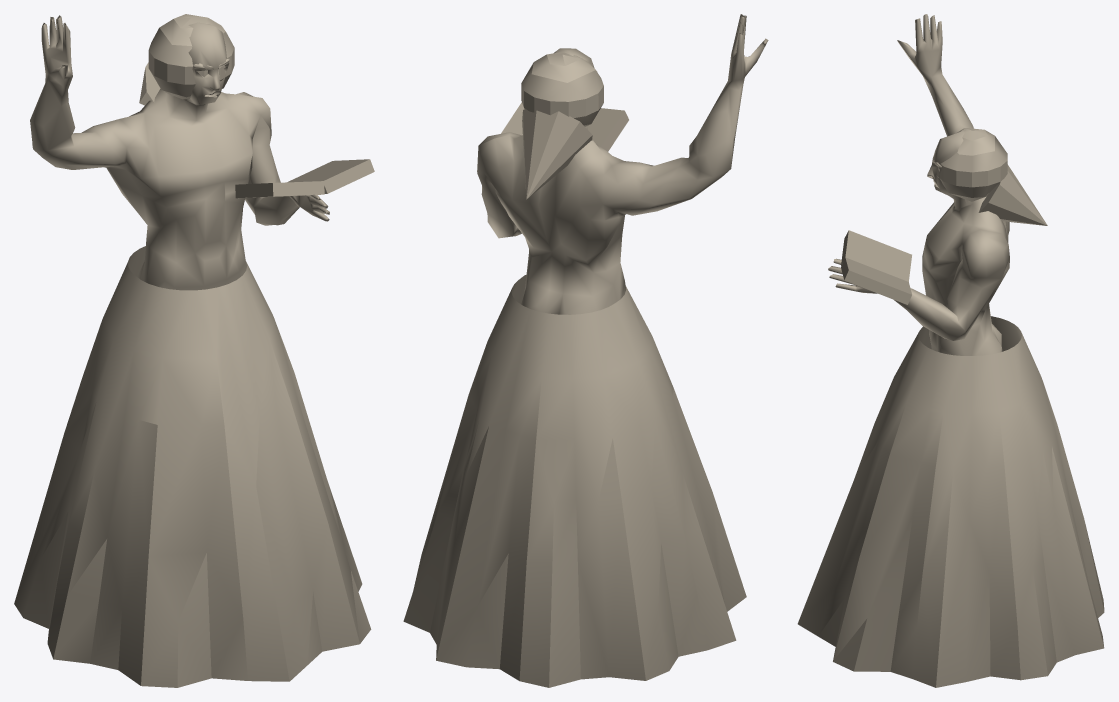
File: hero_w2.glb
The picture shows the model from 3 angles, left to right: view 1: azimuth 30°, elevation 25°; view 2: azimuth 150°, elevation 25°; view 3: azimuth 270°, elevation 25°; orthographic projection. The views are drawn at different scales.
Visible parts, largest first — view 1: HERO_W22; view 2: HERO_W22; view 3: HERO_W22.
Part boxes in pixels (left/top/right/bottom): HERO_W22: left=14, top=14, right=374, bottom=687; HERO_W22: left=403, top=14, right=768, bottom=687; HERO_W22: left=797, top=14, right=1104, bottom=687.
Bounding box in the file's own units: 1.87 × 3.66 × 1.84.
